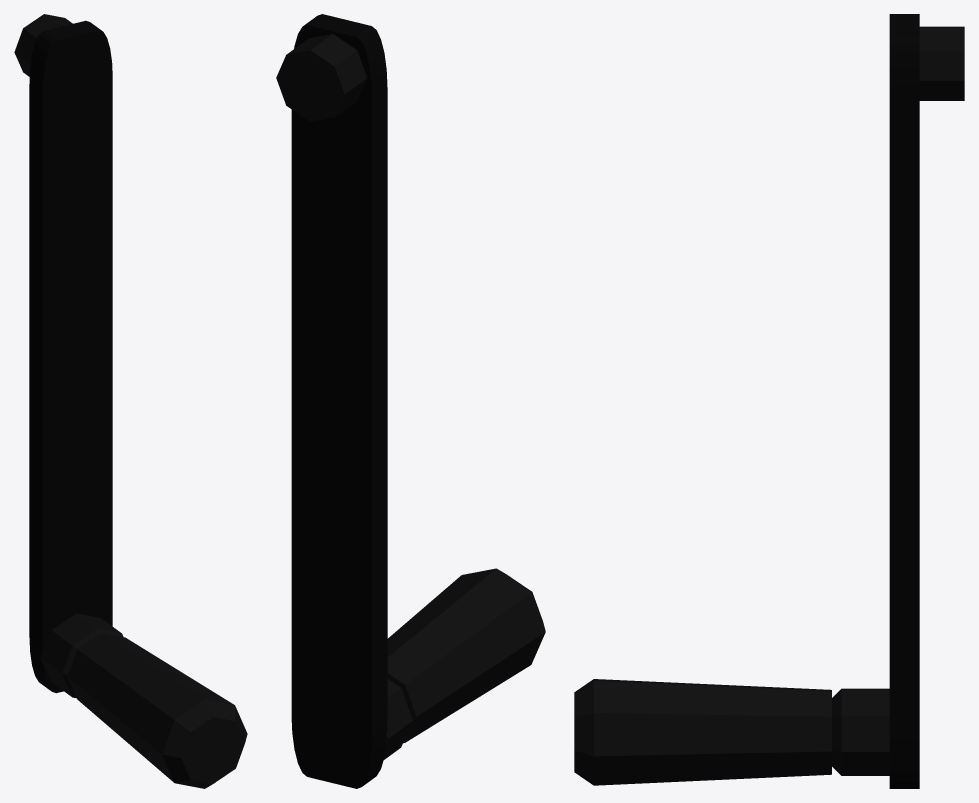
Rendered from Generator_Crank.glb.
The picture shows the model from 3 angles, left to right: view 1: azimuth 30°, elevation 25°; view 2: azimuth 150°, elevation 25°; view 3: azimuth 270°, elevation 25°; orthographic projection. The views are drawn at different scales.
Parts seen in each view (by area): view 1: Crank Plastic; view 2: Crank Plastic; view 3: Crank Plastic.
Boxes of the visible parts, left/top/right/bottom form: Crank Plastic: left=14, top=14, right=247, bottom=788; Crank Plastic: left=276, top=14, right=545, bottom=788; Crank Plastic: left=574, top=14, right=964, bottom=788.
Bounding box in the file's own units: 0.2534 × 1.87 × 0.8707.
Materials: 1 (1 with a texture image).
